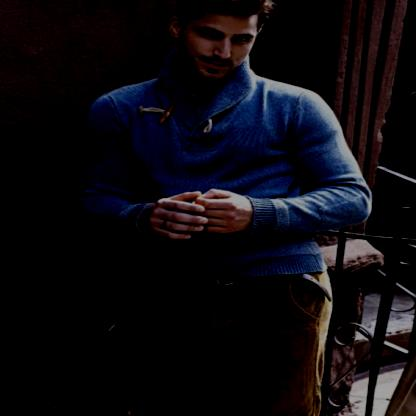dress: (74, 40, 387, 302), (68, 248, 360, 416)
